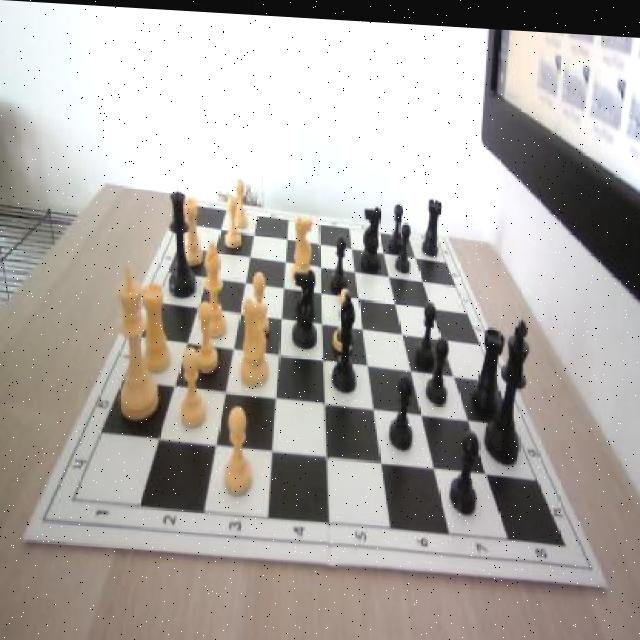bishop: (332, 287, 356, 390)
black-bishop: (485, 313, 529, 460)
black-king: (290, 263, 318, 345), (358, 194, 384, 271)
black-knight: (449, 424, 478, 509), (390, 367, 416, 445), (424, 331, 448, 401), (415, 295, 437, 363), (331, 231, 349, 289), (395, 217, 411, 271), (389, 198, 405, 249)
black-pawn: (165, 188, 197, 295)
black-queen: (472, 319, 504, 409), (423, 194, 442, 252)
black-rook: (200, 238, 226, 337)
white-bishop: (117, 258, 159, 419)
white-king: (234, 285, 273, 388), (292, 209, 316, 282)
white-knight: (221, 403, 254, 494), (177, 342, 208, 428), (192, 297, 220, 374), (246, 269, 270, 337), (334, 282, 354, 349), (231, 178, 249, 228), (225, 193, 242, 244)
white-queen: (142, 276, 170, 371), (180, 193, 202, 267)
